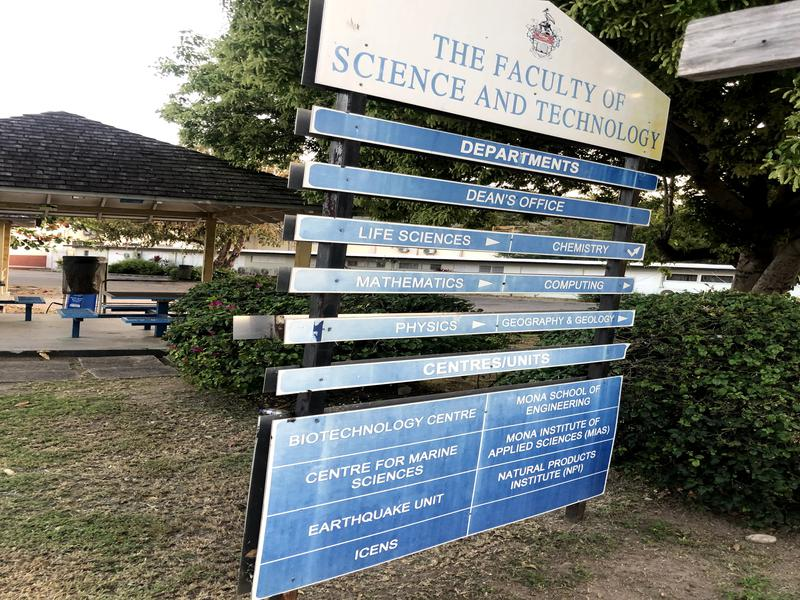18.0055634_-76.7484079_scitechsign: (234, 1, 680, 600)
